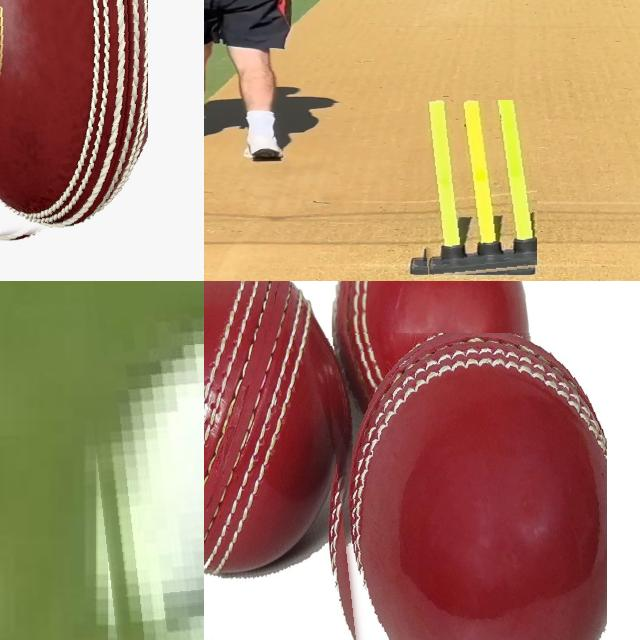Cricket ball: (321, 332, 607, 640), (204, 281, 343, 584), (80, 314, 204, 640), (0, 0, 148, 245)
Stumps: (409, 100, 537, 278)
